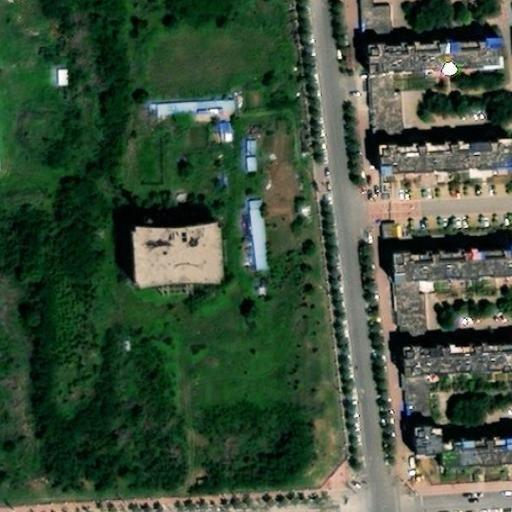building: (137, 225, 219, 284), (389, 250, 512, 287), (372, 43, 509, 76), (383, 145, 510, 179), (410, 346, 512, 378), (446, 439, 512, 470), (153, 92, 236, 115), (243, 194, 267, 268), (407, 420, 439, 454), (240, 132, 256, 170), (212, 115, 232, 140), (49, 61, 67, 84), (378, 216, 397, 236)
